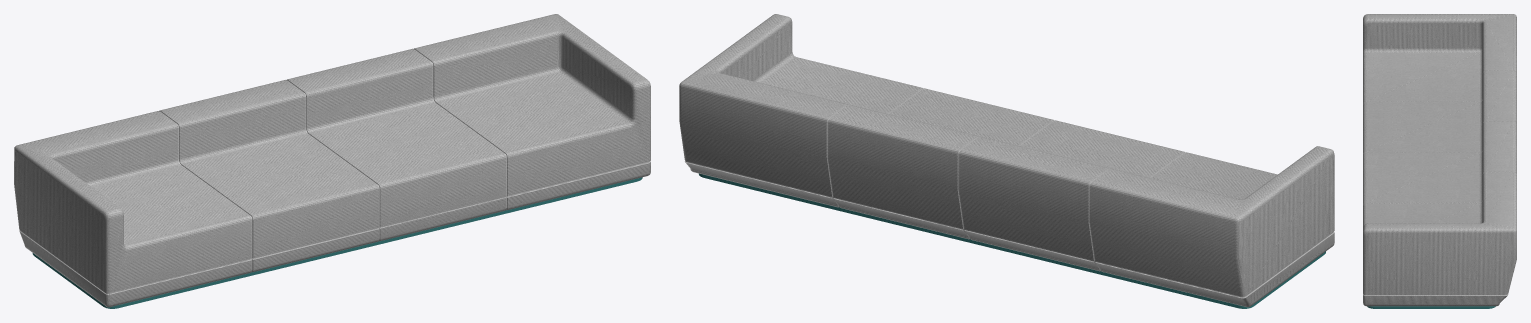
Rendered from D_Bench_102_b.fbx.
3 views of the same model, side by side, from view 1: azimuth 30°, elevation 25°; view 2: azimuth 150°, elevation 25°; view 3: azimuth 270°, elevation 25° (orthographic). The views are drawn at different scales.
Visible parts, largest first — view 1: D_Bench_102_b; view 2: D_Bench_102_b; view 3: D_Bench_102_b.
Boxes of the visible parts, x1,y1,x2,y2 form: D_Bench_102_b: [14, 14, 650, 308]; D_Bench_102_b: [679, 14, 1334, 308]; D_Bench_102_b: [1363, 14, 1516, 308].
Bounding box in the file's own units: 3 × 0.52 × 0.9.
